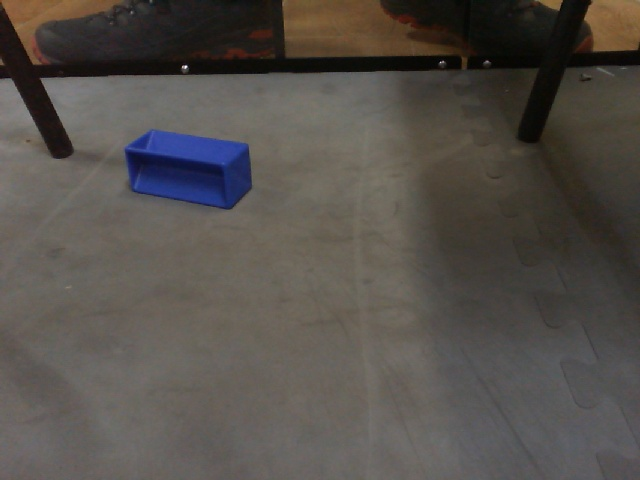BlueSample: (120, 128, 257, 216)
